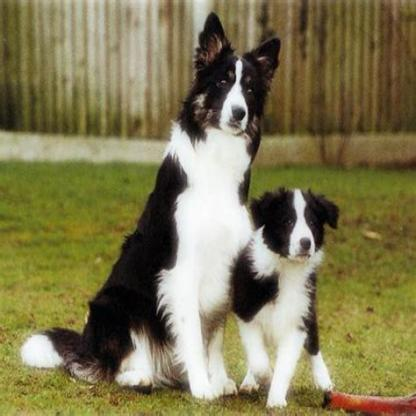dog: (18, 26, 285, 397), (236, 192, 336, 404)
